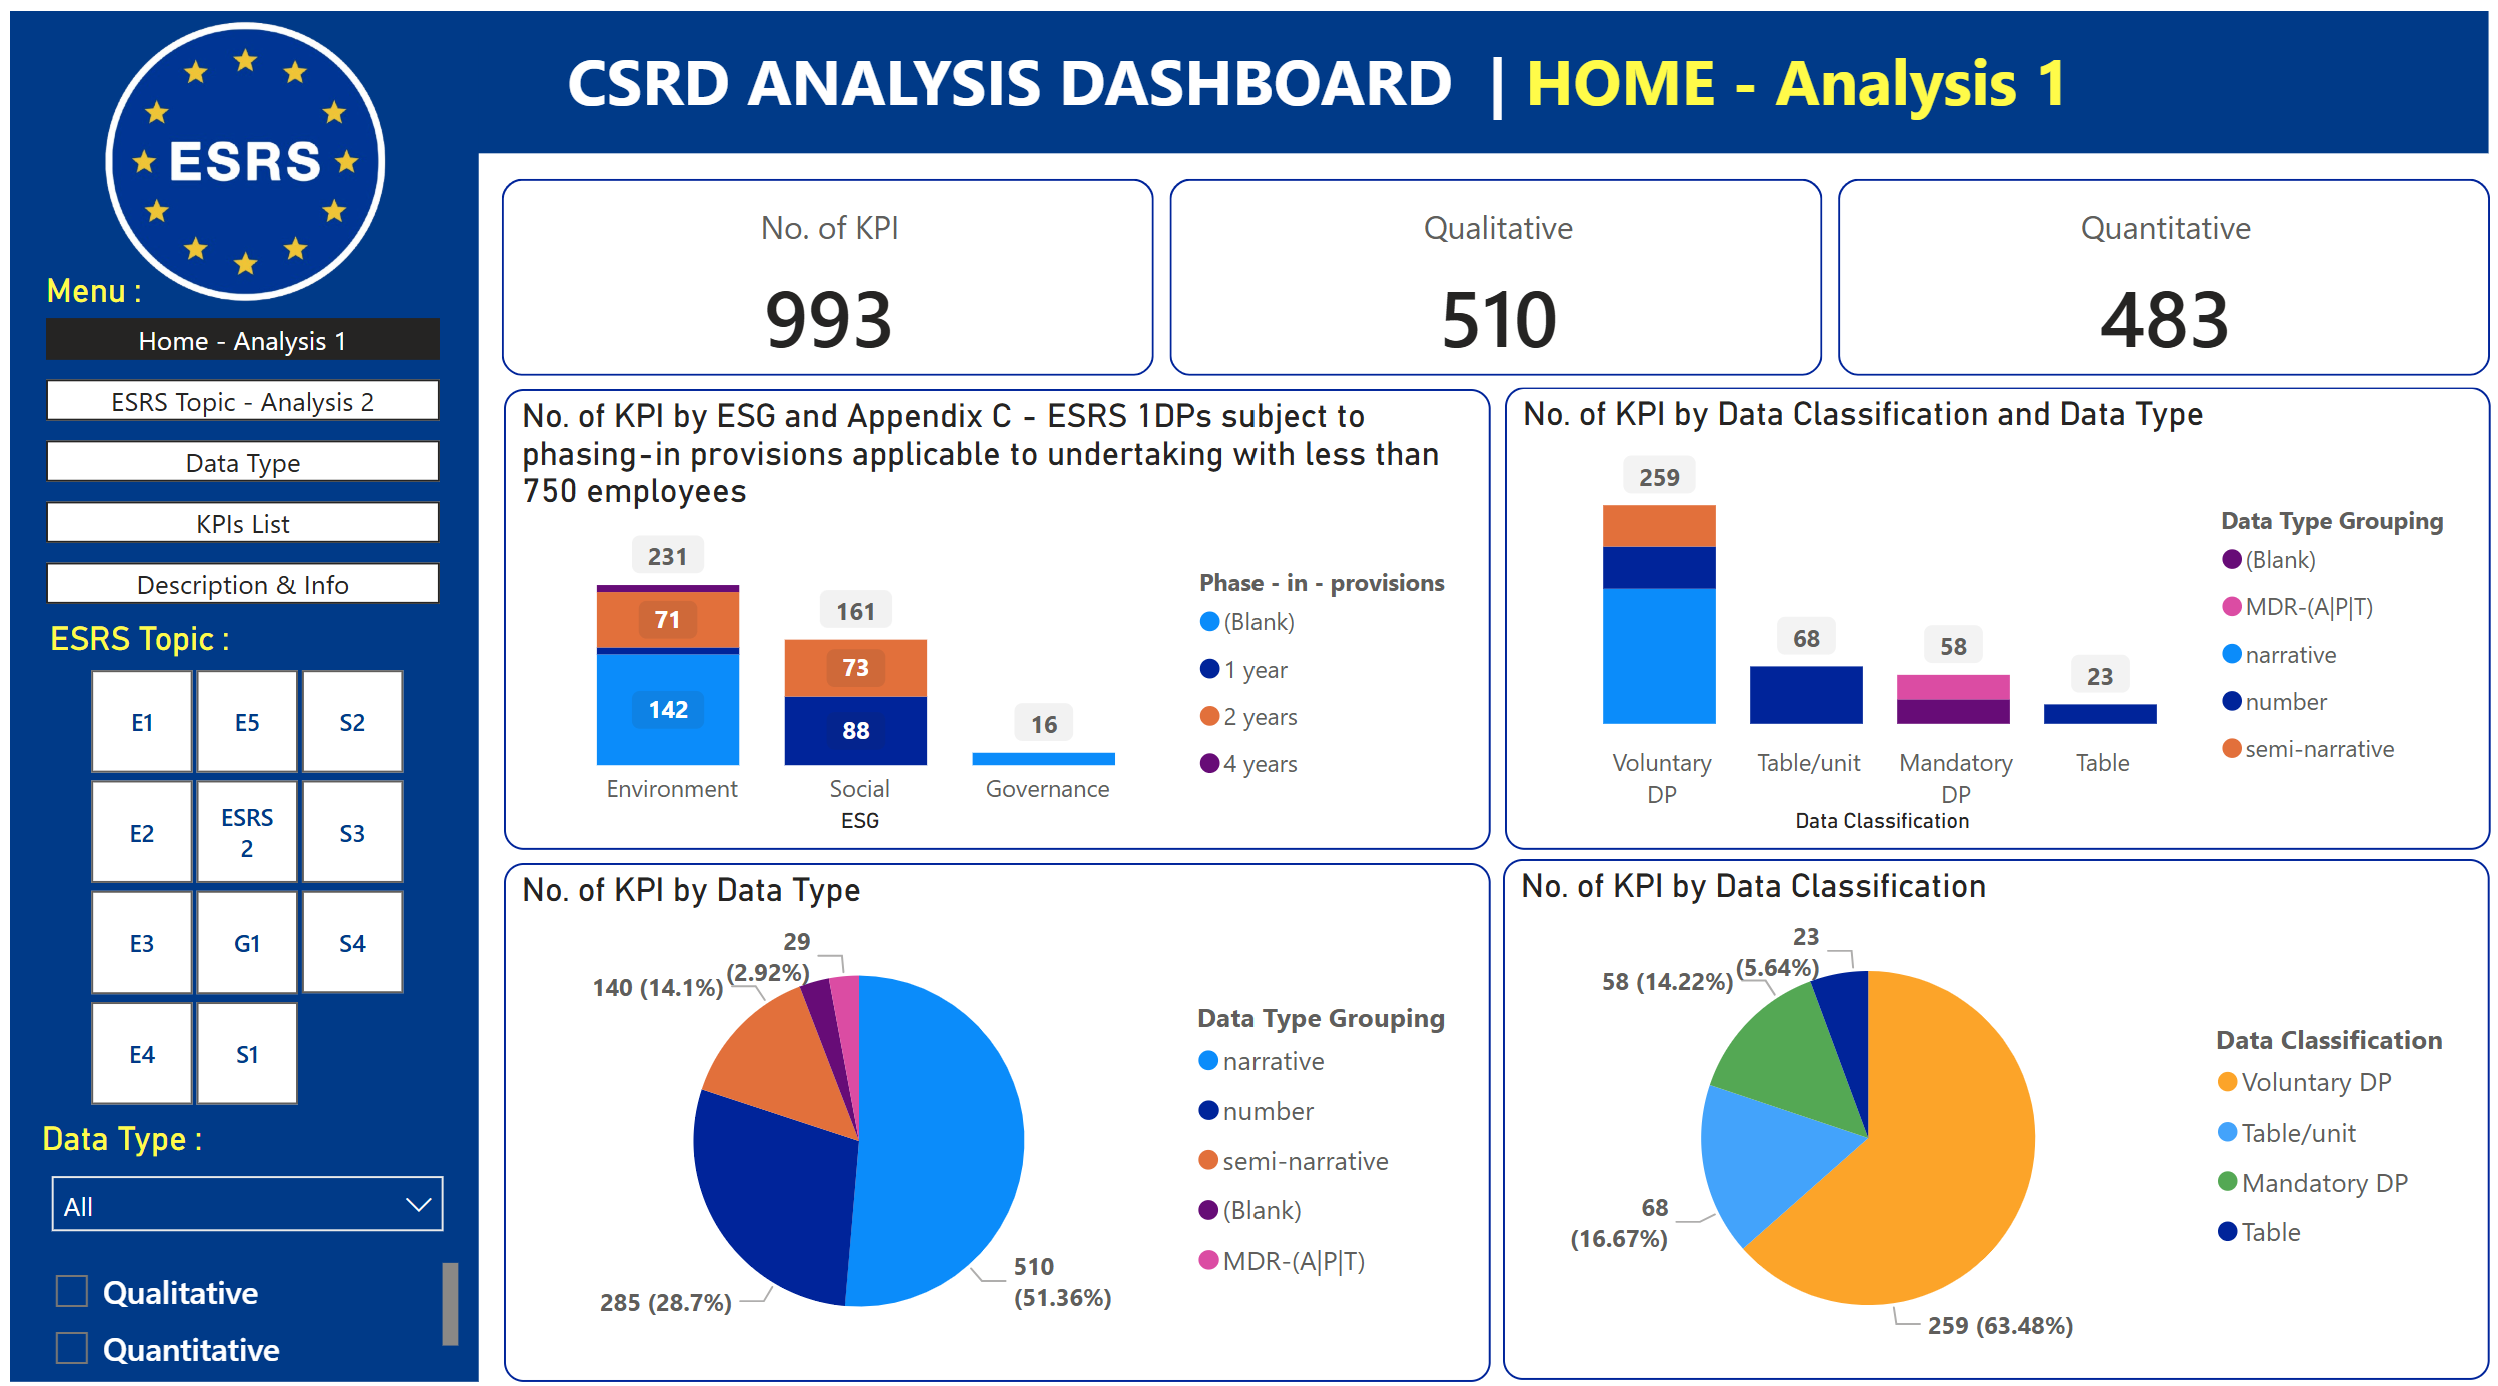

The dashboard page shown, as its layout file describes it:
{"tool":"powerbi","page":{"name":"Home - Analysis 1","canvas":[1280,720],"ordinal":0},"visuals":[{"type":"shape","box":[12.3,19.7,1258,72.3],"z":0},{"type":"pieChart","title":"No. of KPI by Data Classification","fields":{"Category":["All topic ESRS (2).Data Classification"],"Y":["CountNonNull(All topic ESRS (2).Name)"]},"box":[770.3,450,500.9,264.4],"z":1000},{"type":"pieChart","title":"No. of KPI by Data Type","fields":{"Y":["CountNonNull(All topic ESRS (2).Name)"],"Category":["All topic ESRS (2).Data Type Grouping"]},"box":[262.6,452.1,500.7,263.5],"z":2000},{"type":"columnChart","title":"No. of KPI by Data Classification and Data Type","fields":{"Category":["All topic ESRS (2).Data Classification"],"Y":["CountNonNull(All topic ESRS (2).Name)"],"Series":["All topic ESRS (2).Data Type Grouping"]},"box":[770.4,210.5,500.4,235],"z":3000},{"type":"columnChart","title":"No. of KPI by ESG and Appendix C - ESRS 1DPs subject to phasing-in provisions applicable to undertaking with less than 750 employees","fields":{"Y":["CountNonNull(All topic ESRS (2).Name)"],"Category":["All topic ESRS (2).ESG"],"Series":["All topic ESRS (2).Appendix C - ESRS 1DPs subject to phasing-in provisions applicable to undertaking with less than 750 "]},"box":[262.5,210.8,500.7,234.1],"z":4000},{"type":"cardVisual","fields":{"Data":["CountNonNull(All topic ESRS (2).Name)","All topic ESRS (2).Qualitative","All topic ESRS (2).Quantitative"]},"box":[256.7,100,1021.7,110.8],"z":5000},{"type":"textbox","box":[273.1,27.7,806.9,55.4],"z":6000},{"type":"shape","box":[12.3,32.8,238.1,683.2],"z":7000},{"type":"slicer","title":"ESRS Topic :","fields":{"Values":["All topic ESRS (2).ESRS"]},"box":[27.5,328.3,208.3,253.3],"z":8000},{"type":"slicer","title":"Data Type :","fields":{"Values":["All topic ESRS (2).Data Type"]},"box":[23.3,581.7,219.2,61.7],"z":9000},{"type":"slicer","fields":{"Values":["All topic ESRS (2).Qualitative / Quantitative"]},"box":[22.5,650,222.5,64.2],"z":10000},{"type":"image","box":[50,13.3,163.3,166.7],"z":11000},{"type":"pageNavigator","title":"Menu :","box":[30.8,151.7,200.8,171.7],"z":12000}]}

Visuals, with their boxes in screenshot pixels (x1, y1, x2, y2), scaled from the page's 1280x720 canvas onto the 2498x1386 screenshot:
shape: box=[24, 38, 2479, 177]
"No. of KPI by Data Classification" pieChart: box=[1503, 866, 2481, 1375]
"No. of KPI by Data Type" pieChart: box=[512, 870, 1490, 1378]
"No. of KPI by Data Classification and Data Type" columnChart: box=[1503, 405, 2480, 858]
"No. of KPI by ESG and Appendix C - ESRS 1DPs subject to phasing-in provisions applicable to undertaking with less than 750 employees" columnChart: box=[512, 406, 1489, 856]
cardVisual - CountNonNull(All topic ESRS (2).Name) x All topic ESRS (2).Qualitative: box=[501, 192, 2495, 406]
textbox: box=[533, 53, 2108, 160]
shape: box=[24, 63, 489, 1378]
"ESRS Topic :" slicer: box=[54, 632, 460, 1120]
"Data Type :" slicer: box=[45, 1120, 473, 1239]
slicer - All topic ESRS (2).Qualitative / Quantitative: box=[44, 1251, 478, 1375]
image: box=[98, 26, 416, 346]
"Menu :" pageNavigator: box=[60, 292, 452, 623]
